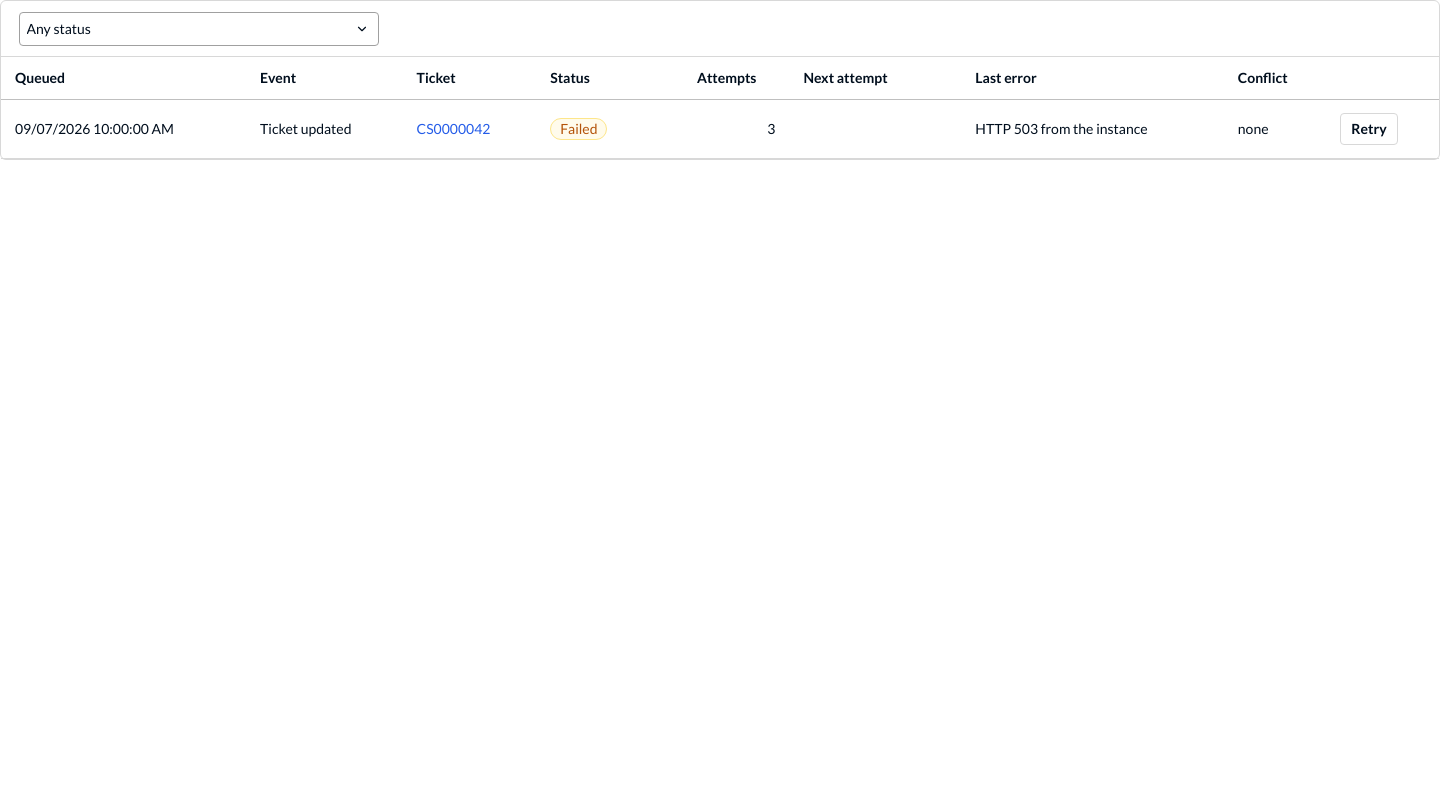
it: OutboundTab › retries a settled row and says what the API did with it
Click the button with aria-label "Retry CS0000042": x=1369, y=129 [1340,113,1398,145]
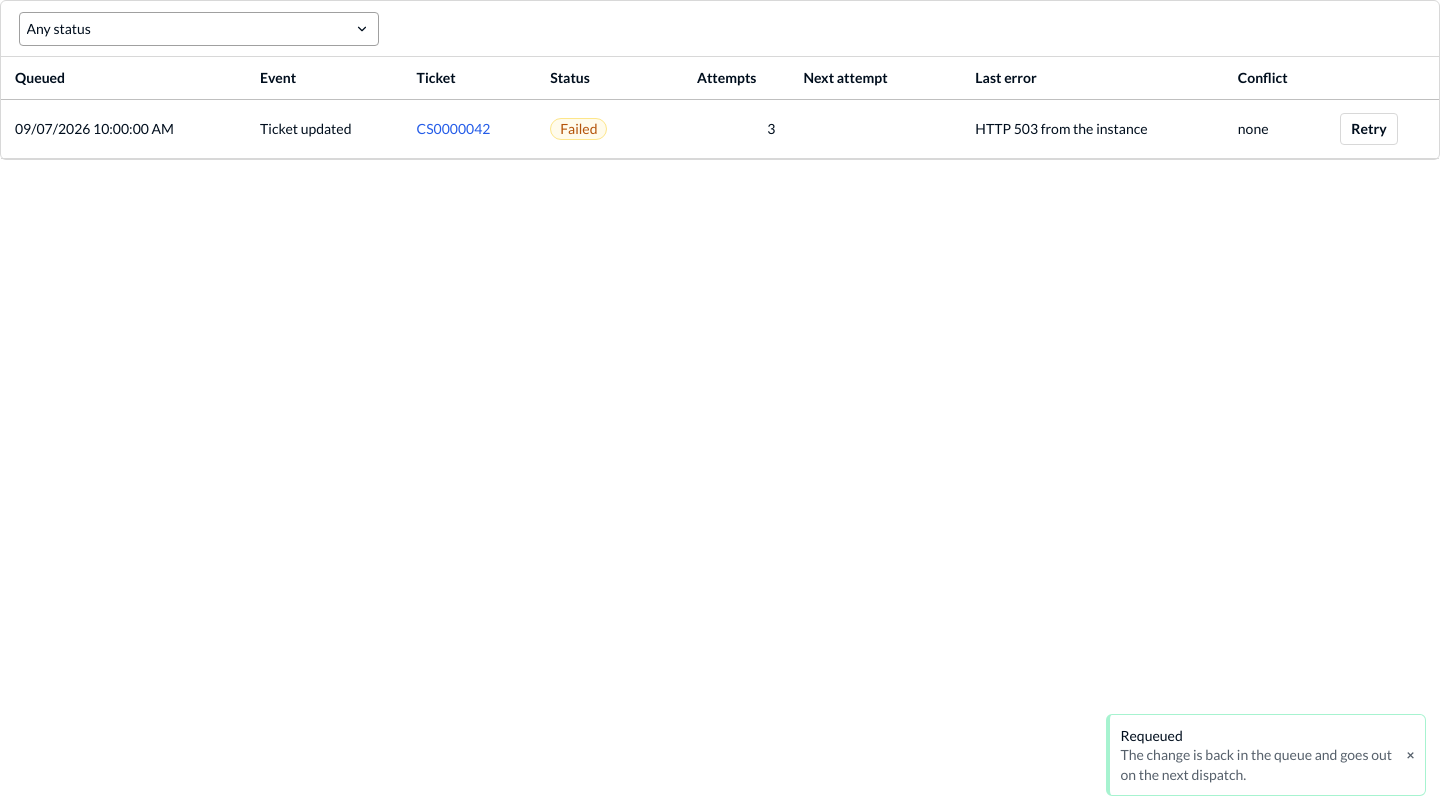
Expected: the text "The change is back in the queue and goes out on the next dispatch." is shown, [1120,745,1396,784]
